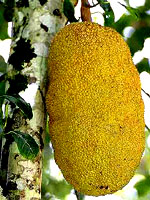jackfruit: (43, 6, 147, 198)
